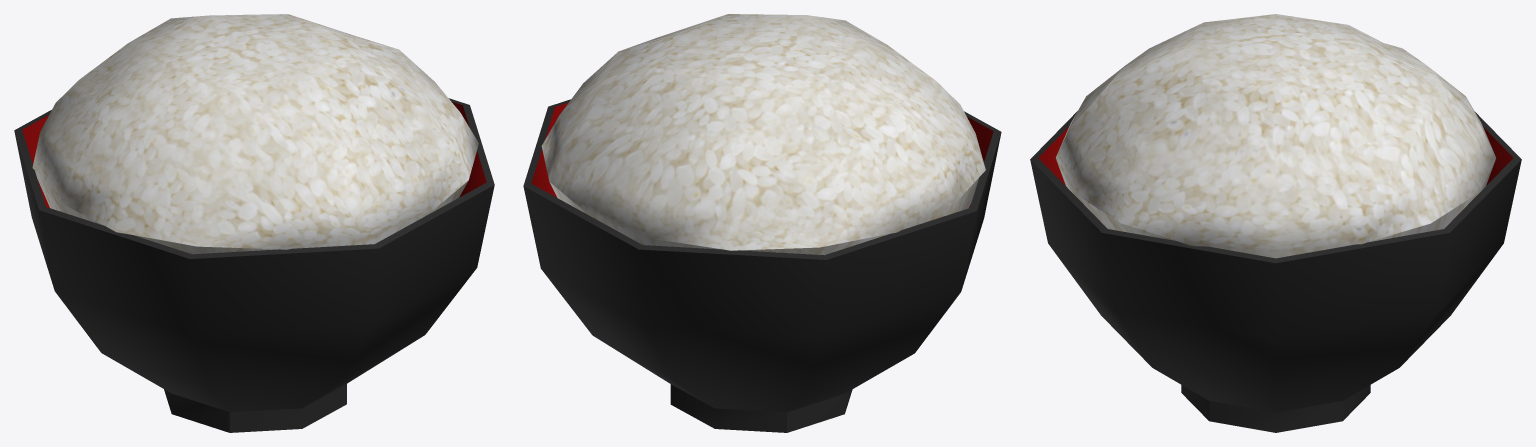
Rendered from rice.glb.
3 renders of one model, left to right at view 1: azimuth 30°, elevation 25°; view 2: azimuth 150°, elevation 25°; view 3: azimuth 270°, elevation 25°, orthographic.
Visible parts, largest first — view 1: Object_4, Object_2, Object_3; view 2: Object_4, Object_2, Object_3; view 3: Object_4, Object_2, Object_3.
Boxes of the visible parts, x1,y1,x2,y2 form: Object_4: (32, 14, 478, 254); Object_2: (14, 98, 494, 432); Object_3: (22, 102, 486, 207); Object_4: (541, 14, 985, 255); Object_2: (523, 99, 1001, 432); Object_3: (531, 102, 993, 207); Object_4: (1056, 14, 1495, 258); Object_2: (1030, 111, 1521, 432); Object_3: (1038, 126, 1513, 185).
Bounding box in the file's own units: 2.07 × 1.62 × 2.07.
Materials: 3 (1 with a texture image).
